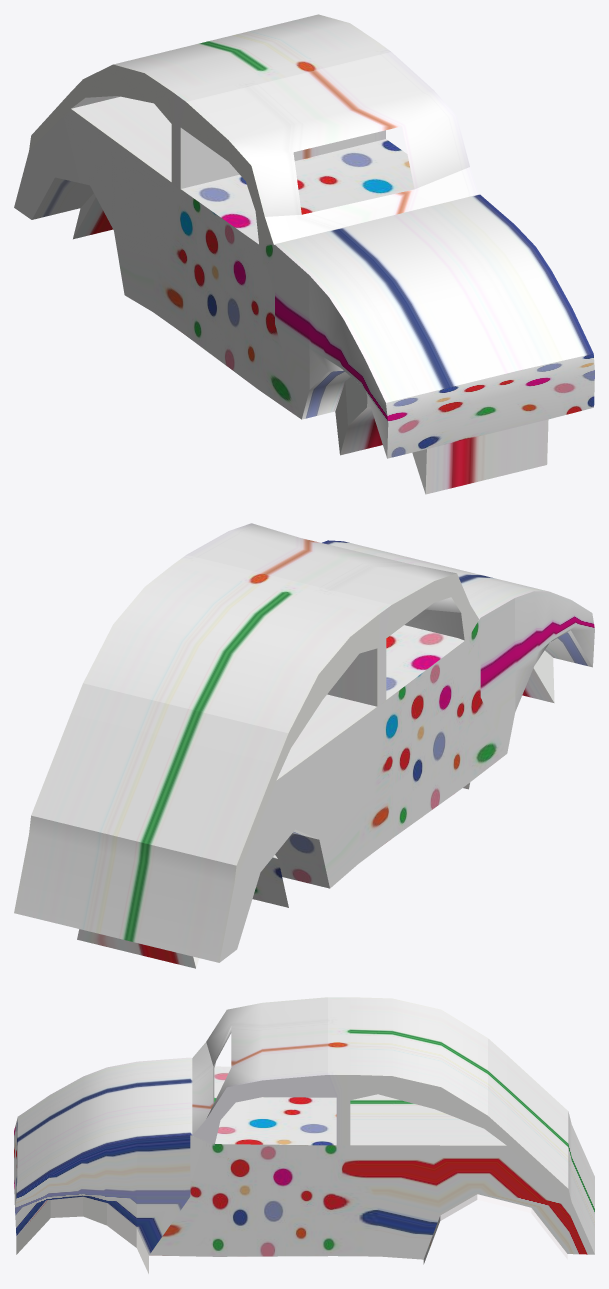
Rendered from BEEPBEEPCAR.fbx.
3 renders of one model, top to bottom at view 1: azimuth 30°, elevation 25°; view 2: azimuth 150°, elevation 25°; view 3: azimuth 270°, elevation 25°, orthographic. The views are drawn at different scales.
Visible parts, largest first — view 1: pCube1; view 2: pCube1; view 3: pCube1.
Boxes of the visible parts, bbox=[...] form: pCube1: bbox=[14, 14, 594, 494]; pCube1: bbox=[14, 523, 594, 968]; pCube1: bbox=[14, 997, 594, 1273].
Bounding box in the file's own units: 19.99 × 24.97 × 60.96.
1 material, 1 textured.
